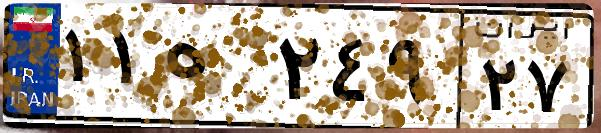1: (57, 26, 110, 100), (110, 28, 158, 98)
2: (270, 28, 330, 110), (475, 38, 525, 113)
4: (330, 28, 385, 110)
7: (525, 38, 570, 115)
9: (385, 28, 445, 110)
ه: (158, 20, 270, 120)
